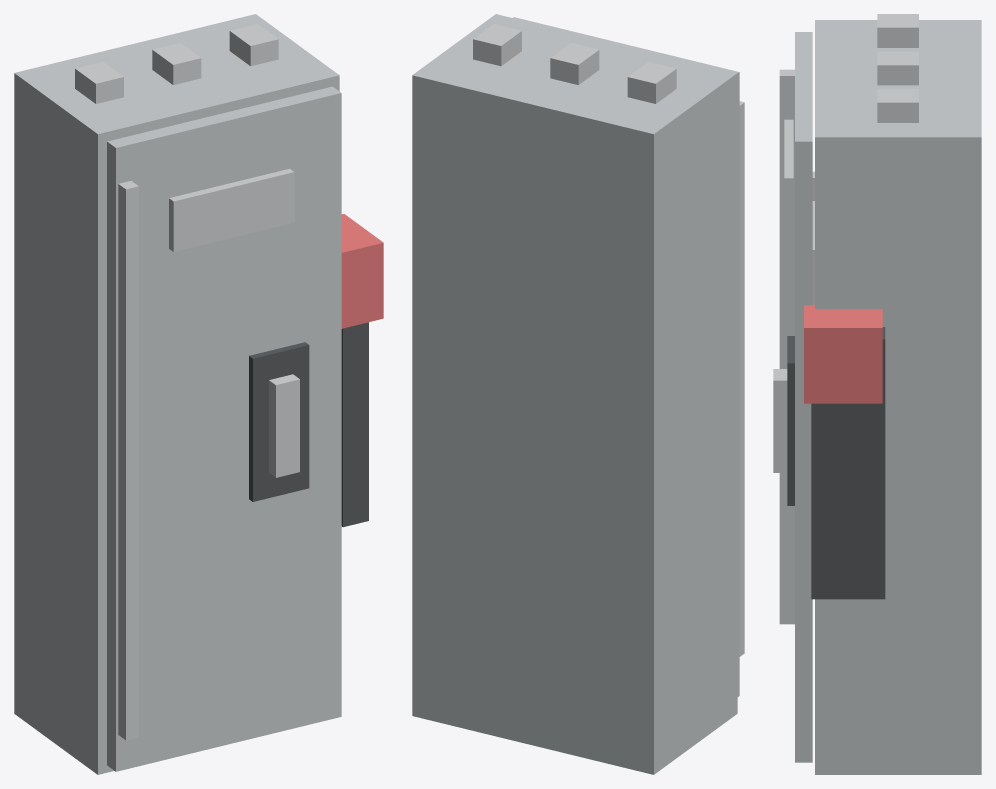
Rendered from stlib-ele-disconnect-enclosure-v1.glb.
3 renders of one model, left to right at view 1: azimuth 30°, elevation 25°; view 2: azimuth 150°, elevation 25°; view 3: azimuth 270°, elevation 25°, orthographic.
Parts seen in each view (by area): view 1: door, body (×2), handle (×5), placard; view 2: body (×3), handle, door; view 3: body (×2), handle (×5), door, placard.
Boxes of the visible parts, box(x1,y1,x2,y2) form: door: box(107, 86, 341, 771); body (×2): box(14, 14, 339, 774); handle (×5): box(118, 181, 383, 740); placard: box(169, 168, 294, 251); body (×3): box(412, 14, 737, 774); handle: box(739, 101, 744, 656); door: box(513, 17, 739, 696); body (×2): box(815, 14, 981, 774); handle (×5): box(773, 69, 885, 624); door: box(795, 32, 812, 762); placard: box(784, 119, 793, 228).
Bounding box in the file's own units: 0.348 × 0.784 × 0.225.
